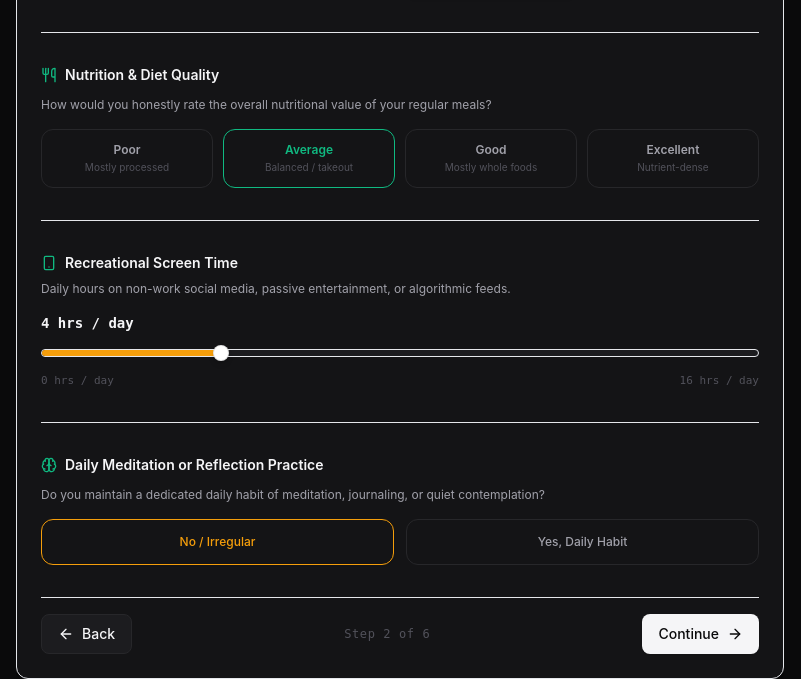
Test: OnboardingWizard Component › advances to step 3 and renders Weekly Time Allocation form
(page scrolled)
Click the button with aria-label "continue to next step". click: (701, 634)
box: [642, 614, 759, 654]
(page scrolled)
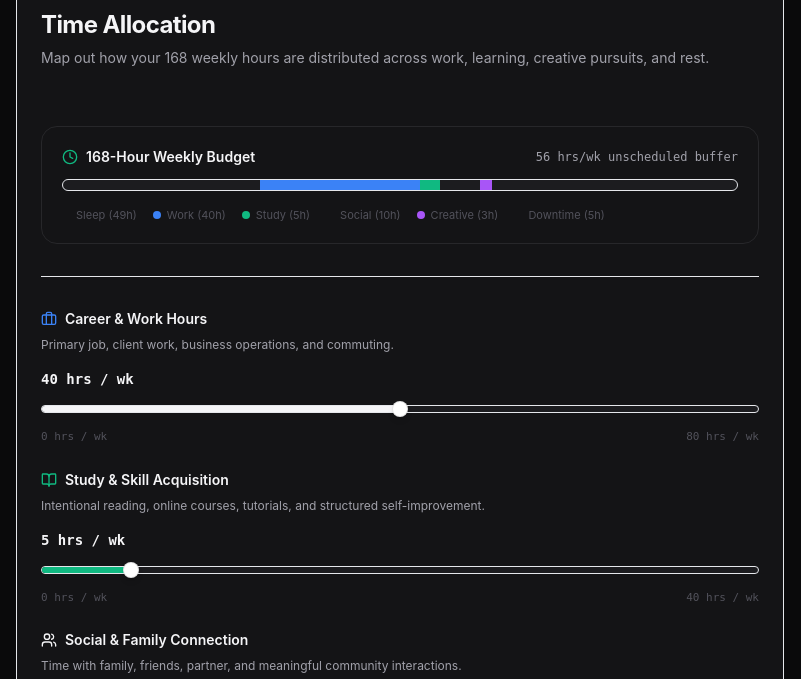
Now the heading "168-Hour Weekly Budget" is shown, box [86, 147, 255, 167]
Now the heading "Career & Work Hours" is shown, box [65, 309, 207, 329]
